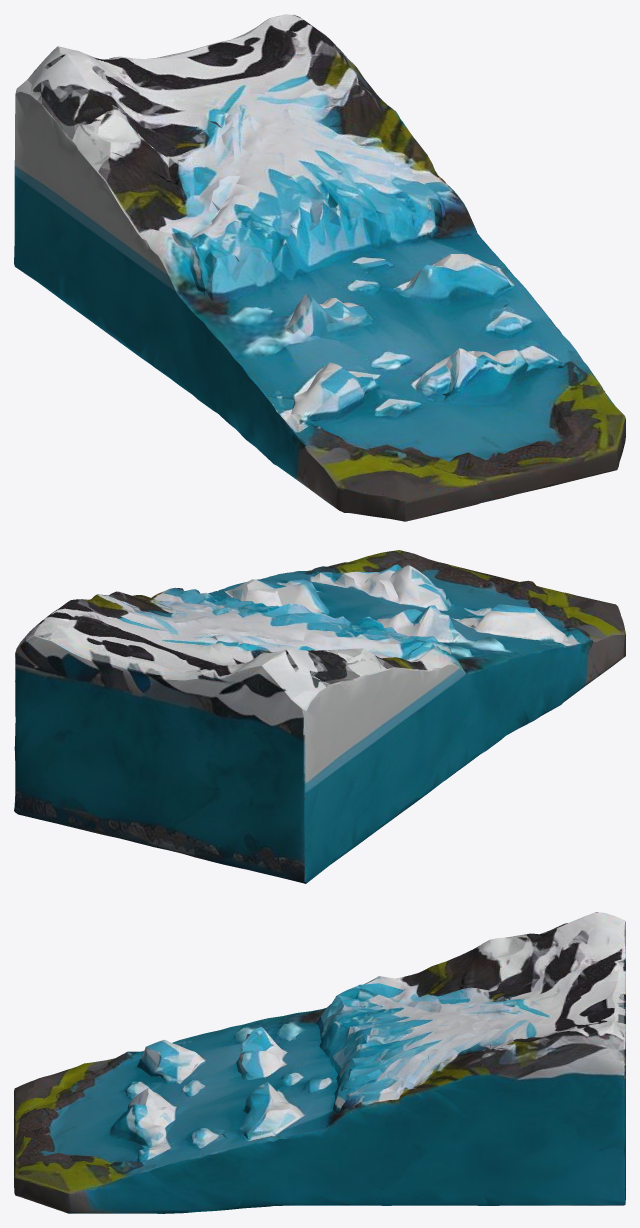
File: jokulsarlon.glb
The picture shows the model from 3 angles, top to bottom: view 1: azimuth 30°, elevation 25°; view 2: azimuth 150°, elevation 25°; view 3: azimuth 270°, elevation 25°; orthographic projection. The views are drawn at different scales.
Visible parts, largest first — view 1: logan-textured.obj; view 2: logan-textured.obj; view 3: logan-textured.obj.
Part boxes in pixels (left/top/right/bottom): logan-textured.obj: left=14, top=14, right=625, bottom=521; logan-textured.obj: left=14, top=550, right=625, bottom=883; logan-textured.obj: left=14, top=912, right=625, bottom=1213.
Size of the model in its own units: 0.4794 by 0.3518 by 1.
1 material, 1 textured.
